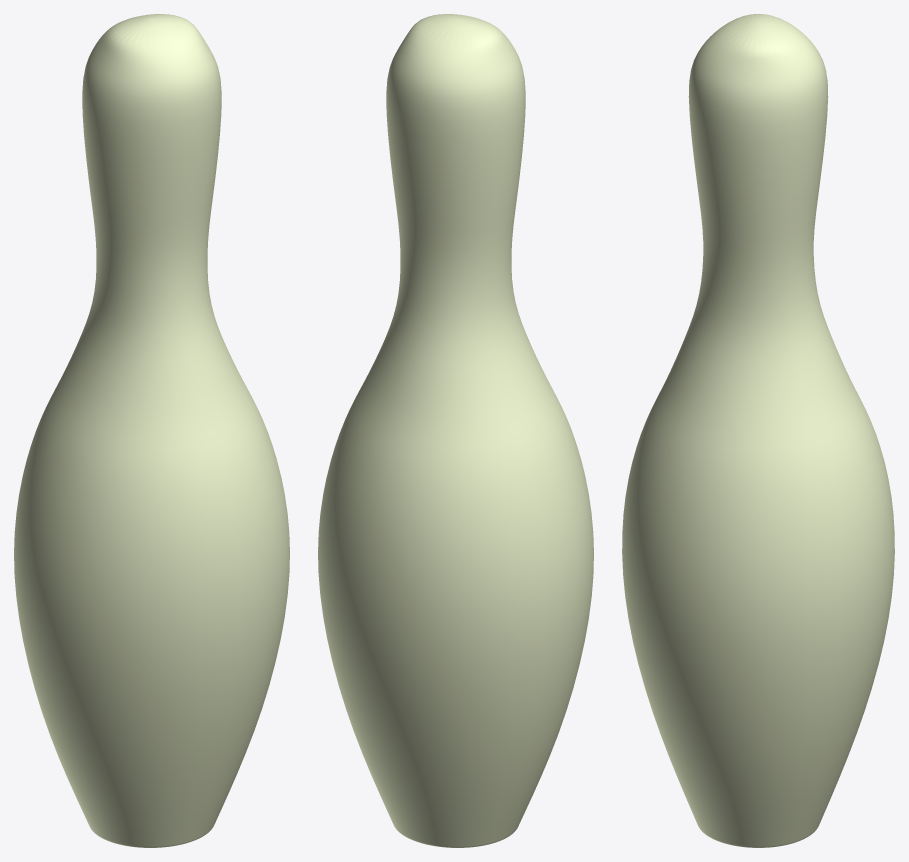
The model's file is bowling pin.fbx.
3 renders of one model, left to right at view 1: azimuth 30°, elevation 25°; view 2: azimuth 150°, elevation 25°; view 3: azimuth 270°, elevation 25°, orthographic.
Parts seen in each view (by area): view 1: Cylinder; view 2: Cylinder; view 3: Cylinder.
Part boxes in pixels (box(x1,y1,x2,y2)): Cylinder: box(14, 14, 289, 847); Cylinder: box(318, 14, 593, 847); Cylinder: box(622, 14, 894, 847).
Size of the model in its own units: 129 by 414 by 128.
